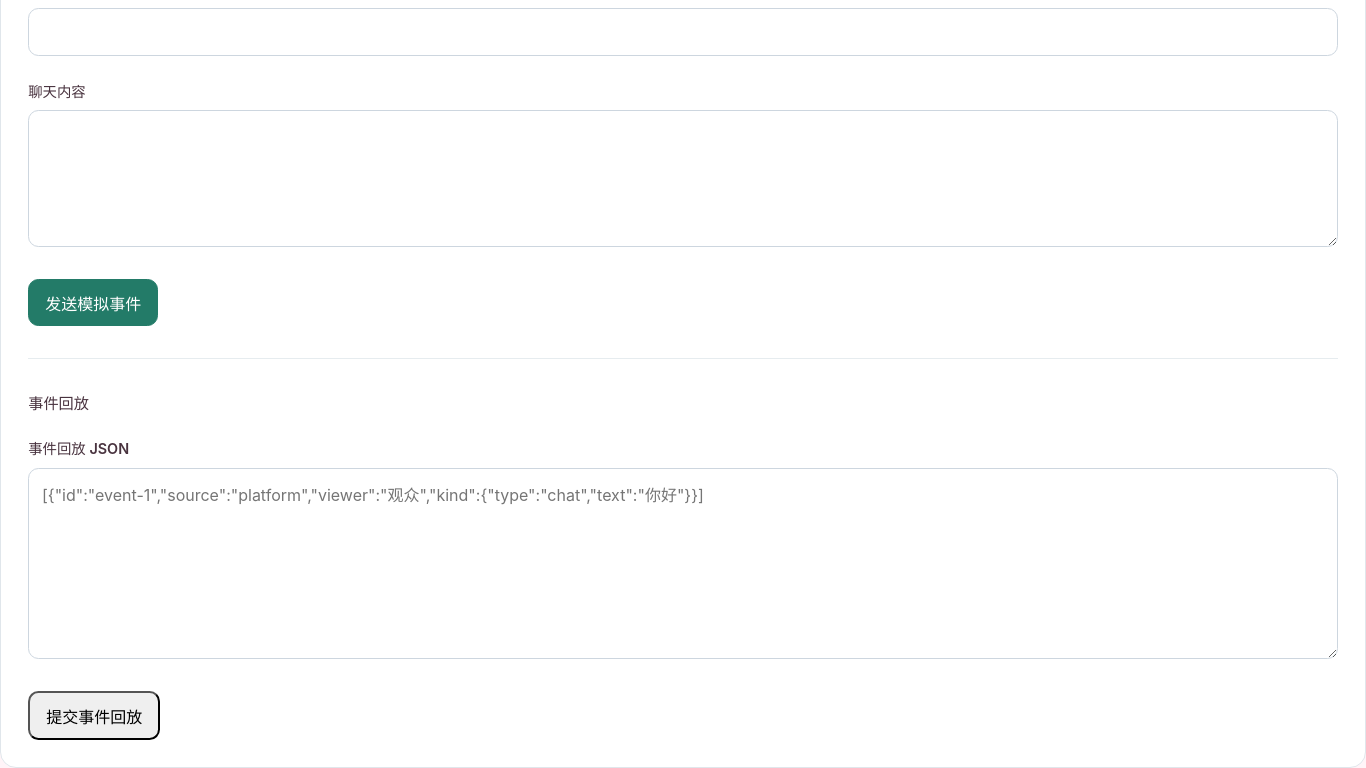
Test: reports replay validation failure before submitting events
(page scrolled)
Step 1. Replace the text in the text box labelled "事件回放 JSON" with "not json" → (683, 563), box [28,468,1338,658]
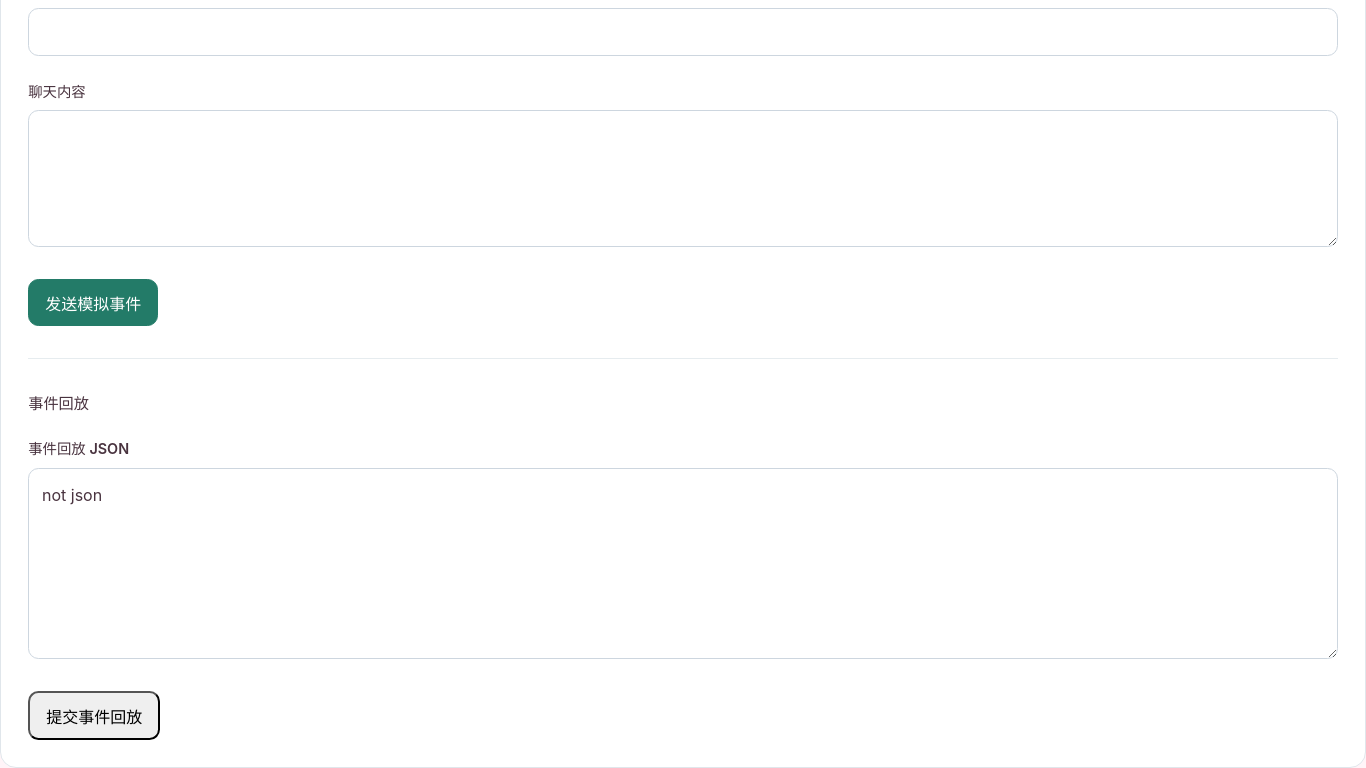
Step 2. Click the button "提交事件回放" → (94, 716), box [28,691,160,740]
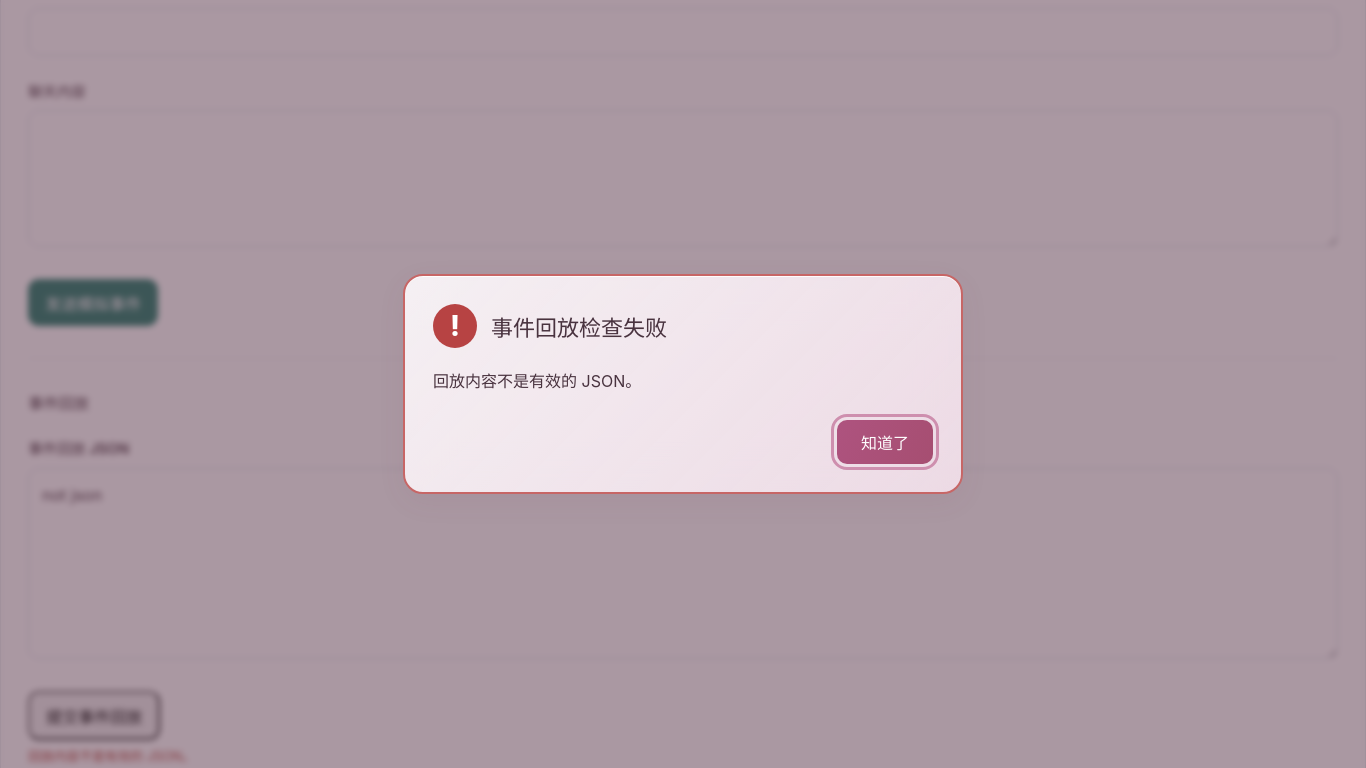
Now the dialog shows "回放内容不是有效的 JSON", box [433,371,641,391]
